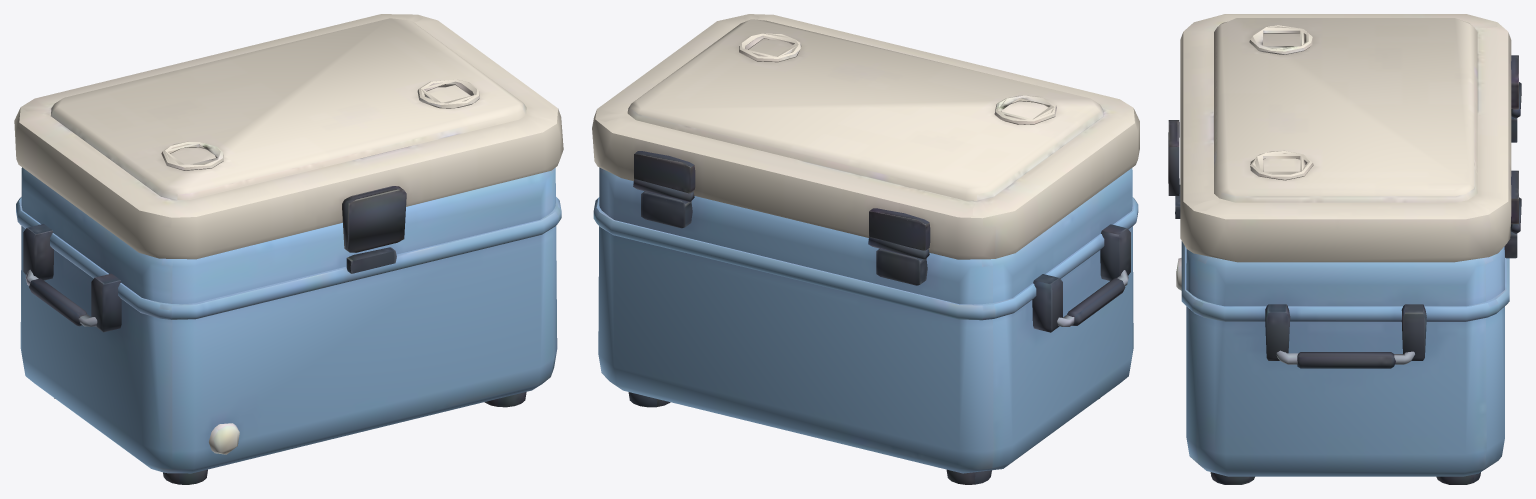
Rendered from g3d_cooler_box.glb.
3 renders of one model, left to right at view 1: azimuth 30°, elevation 25°; view 2: azimuth 150°, elevation 25°; view 3: azimuth 270°, elevation 25°, orthographic.
Visible parts, largest first — view 1: cooler-box_body, cooler-box_lid, cooler-box_lid_lo, cooler-box_body_lo; view 2: cooler-box_body, cooler-box_lid, cooler-box_lid_lo, cooler-box_body_lo; view 3: cooler-box_lid, cooler-box_body, cooler-box_lid_lo, cooler-box_body_lo.
Boxes of the visible parts, left/top/right/bottom form: cooler-box_body: left=16, top=167, right=561, bottom=484; cooler-box_lid: left=14, top=14, right=563, bottom=259; cooler-box_lid_lo: left=21, top=14, right=556, bottom=252; cooler-box_body_lo: left=16, top=197, right=558, bottom=452; cooler-box_body: left=593, top=167, right=1138, bottom=484; cooler-box_lid: left=592, top=14, right=1139, bottom=259; cooler-box_lid_lo: left=595, top=14, right=1056, bottom=250; cooler-box_body_lo: left=594, top=168, right=1135, bottom=326; cooler-box_lid: left=1168, top=14, right=1518, bottom=262; cooler-box_body: left=1175, top=82, right=1521, bottom=484; cooler-box_lid_lo: left=1194, top=22, right=1518, bottom=223; cooler-box_body_lo: left=1175, top=109, right=1520, bottom=476.
Bounding box in the file's own units: 0.6842 × 0.4095 × 0.4403.
Materials: 2 (2 with a texture image).
